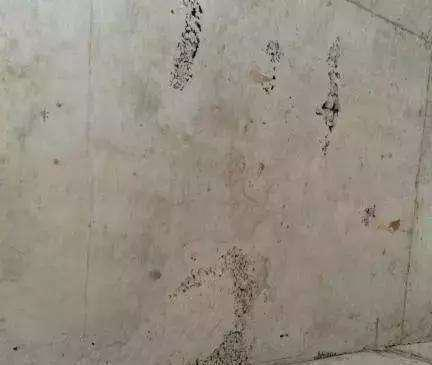Spalling: (167, 245, 259, 365), (314, 36, 341, 156), (168, 1, 203, 92), (261, 39, 281, 96), (358, 204, 377, 227)
